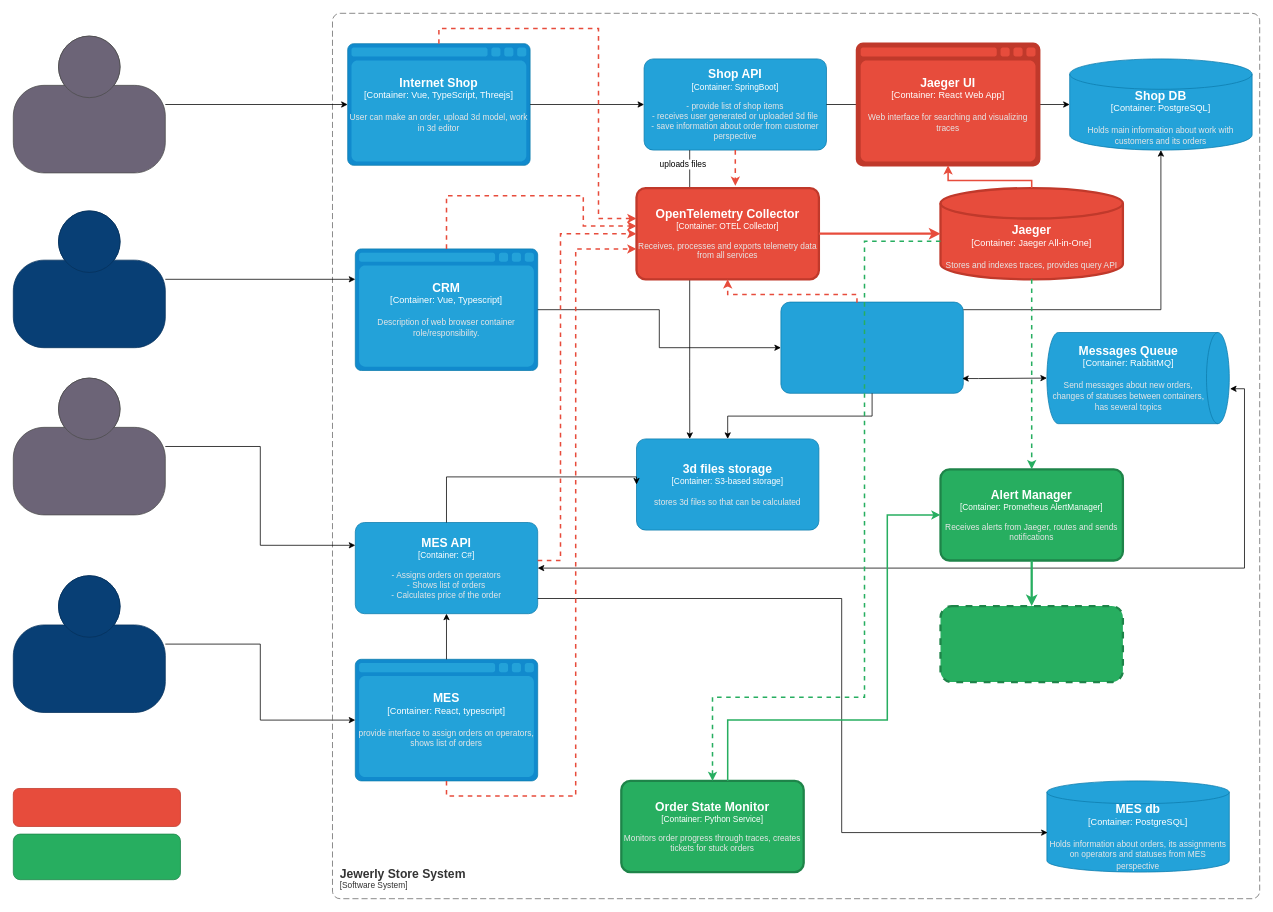
Image size: 1273x912. Some labels were removed from this diagram. Each missing label, with the centre of its shape:
API user [Person] Description of external person.: (x=89, y=446)
CRM API [Container: SpringBoot] Description of container role/responsibility.: (x=871, y=347)
Customer [Person] Description of external person.: (x=89, y=104)
Operator [Person] Takes order in work, manufactures jewerly: (x=89, y=643)
Seller [Person] Operates with order, confirms manufacturing for the user: (x=89, y=279)
Slack / PagerDuty [External System] Receives alerts and notifications: (x=1031, y=644)
Компоненты мониторинга и алертинга выделены зелёным цветом: (x=96, y=856)
Компоненты трейсинга выделены красным цветом: (x=96, y=807)
